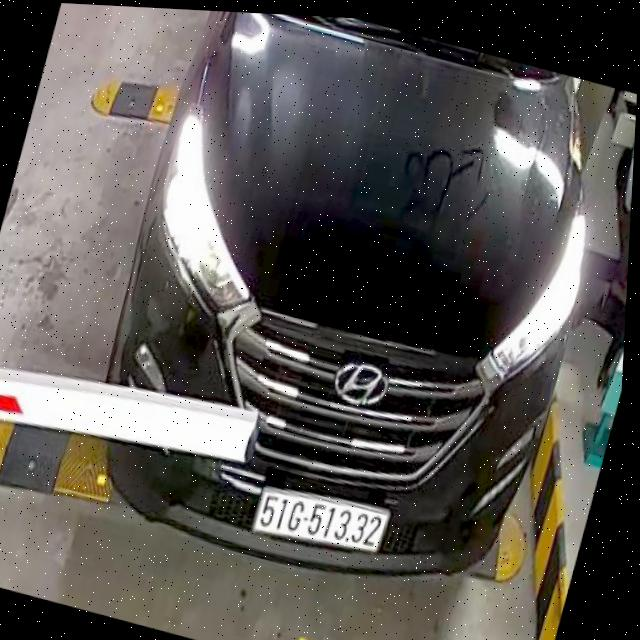car: (59, 5, 640, 629)
plate: (244, 474, 399, 568)
